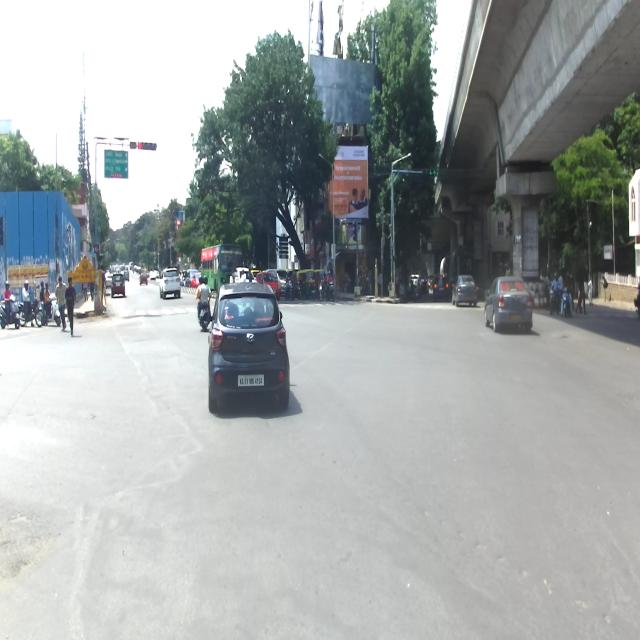car ahead at: (208, 281, 291, 418)
motorcycle ahead at: (18, 279, 46, 332)
person ahead at: (55, 270, 76, 334)
traffic signal ahead at: (135, 133, 159, 160)
